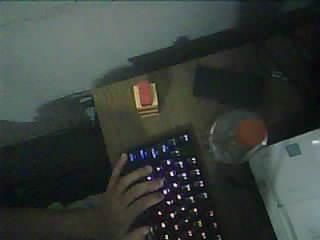lego: (133, 80, 159, 118)
